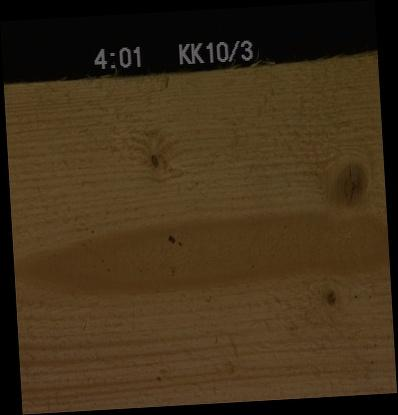small_knot: (321, 284, 340, 309), (146, 149, 162, 170)
sound_knot: (326, 159, 373, 207)
